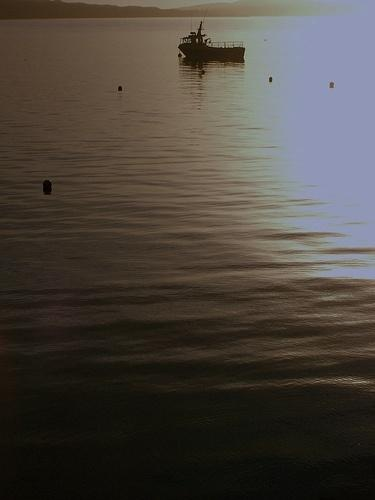boat: (176, 20, 247, 68)
